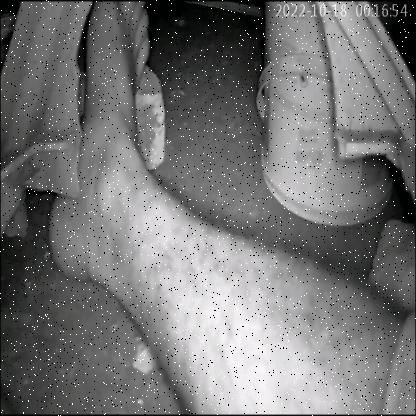leg: (32, 0, 391, 416)
